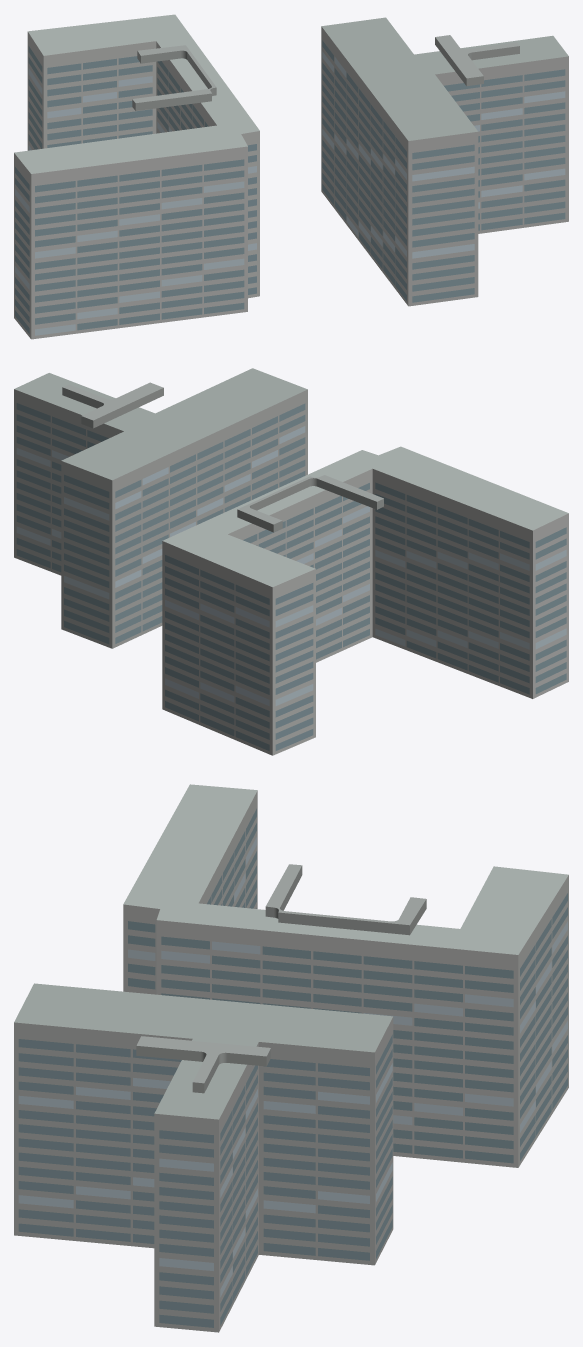
Rendered from apt-a13285507.glb.
3 views of the same model, one above another, from view 1: azimuth 30°, elevation 25°; view 2: azimuth 150°, elevation 25°; view 3: azimuth 270°, elevation 25° (orthographic). The views are drawn at different scales.
Visible parts, largest first — view 1: apt-a13285507; view 2: apt-a13285507; view 3: apt-a13285507.
Part boxes in pixels (bbox=[...]): apt-a13285507: bbox=[14, 14, 568, 339]; apt-a13285507: bbox=[14, 368, 568, 755]; apt-a13285507: bbox=[14, 784, 568, 1332].
Bounding box in the file's own units: 132 × 41 × 92.47.
